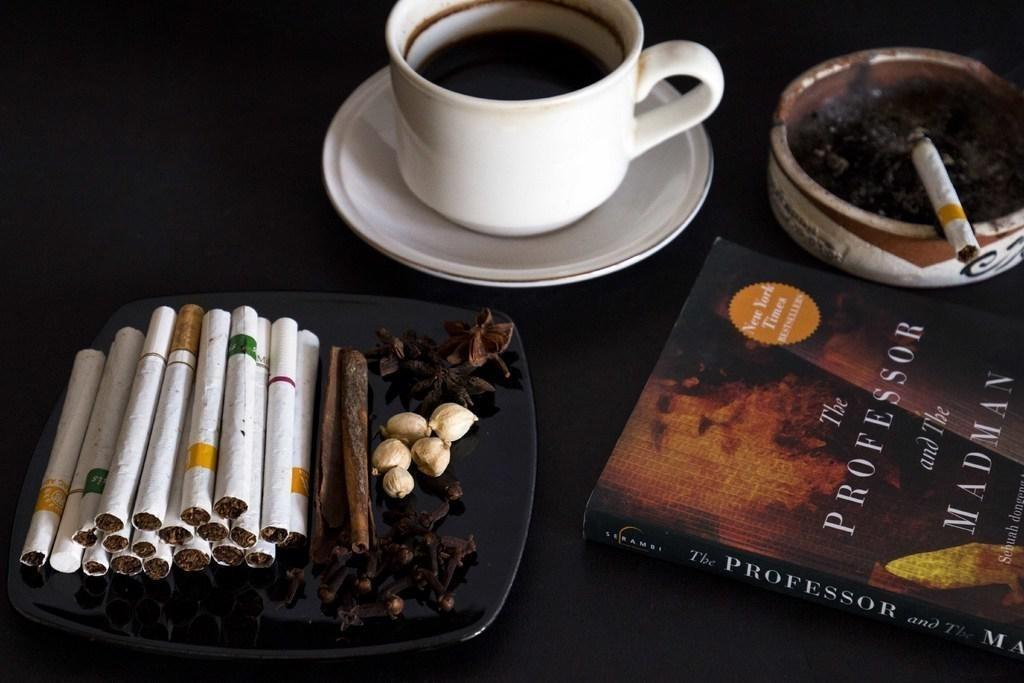cup-handle: (386, 0, 727, 240)
